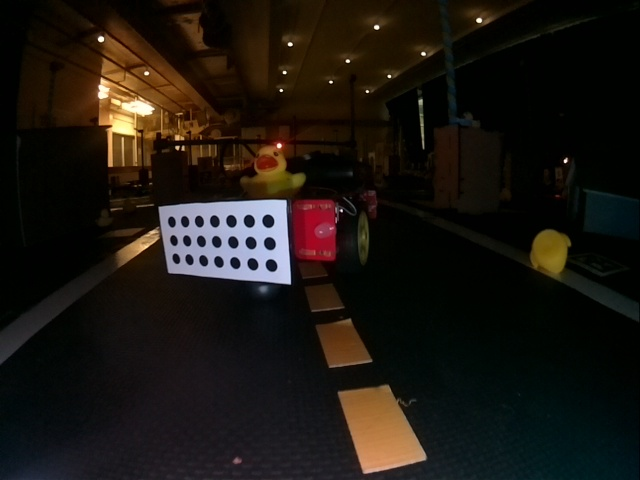Duckie: (239, 147, 304, 194), (529, 229, 572, 272)
Duckiebot: (157, 157, 378, 287)
